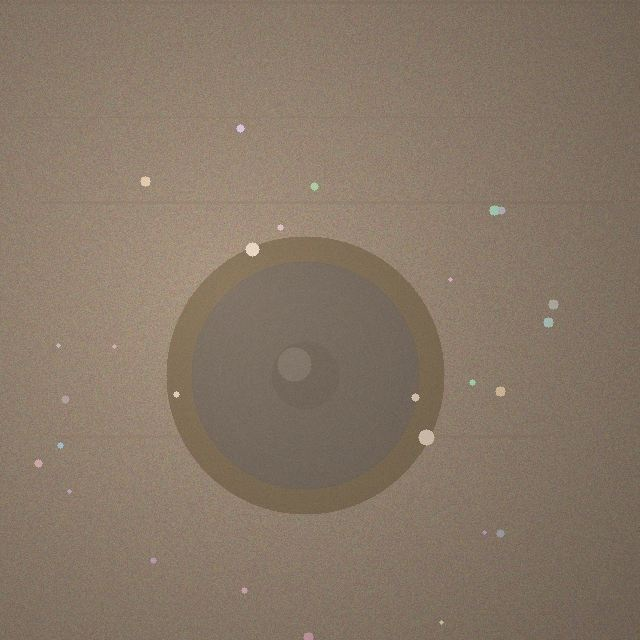overburn: (166, 236, 444, 514)
